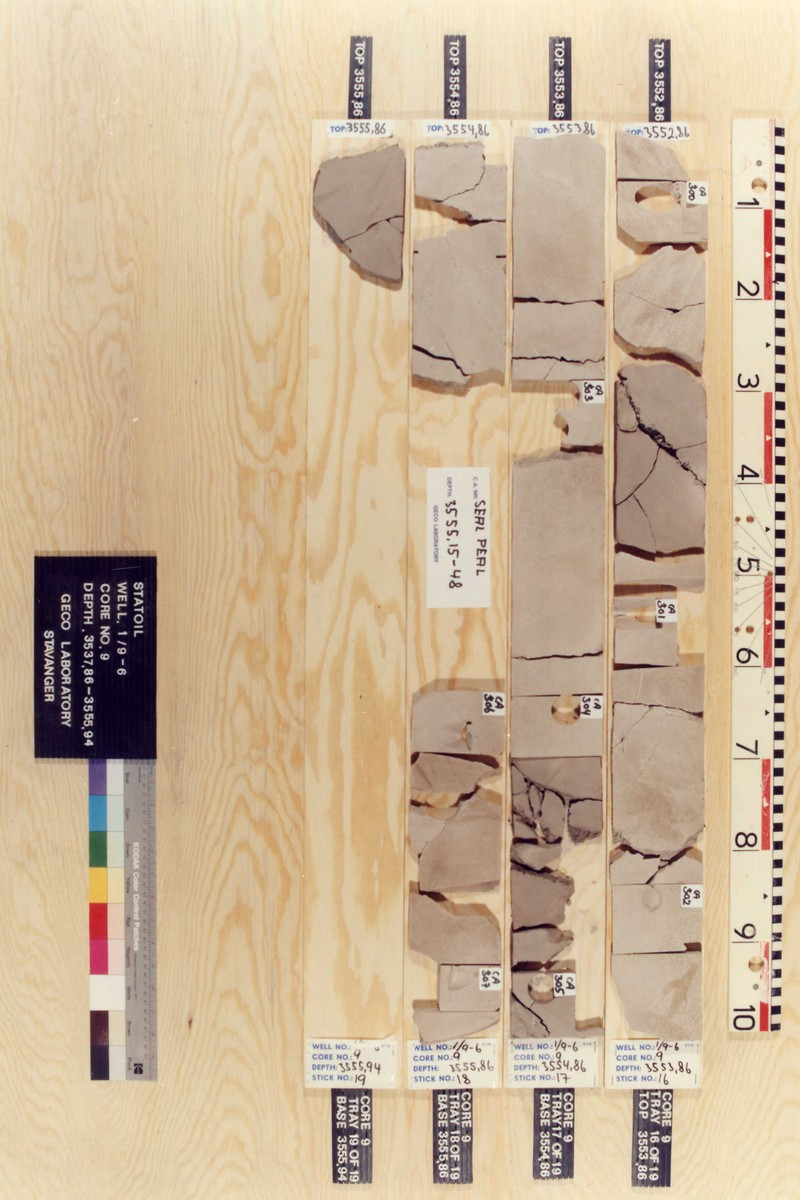core: (507, 137, 605, 1038), (612, 129, 707, 1042), (410, 690, 505, 1038), (412, 141, 508, 390), (312, 145, 405, 288)
